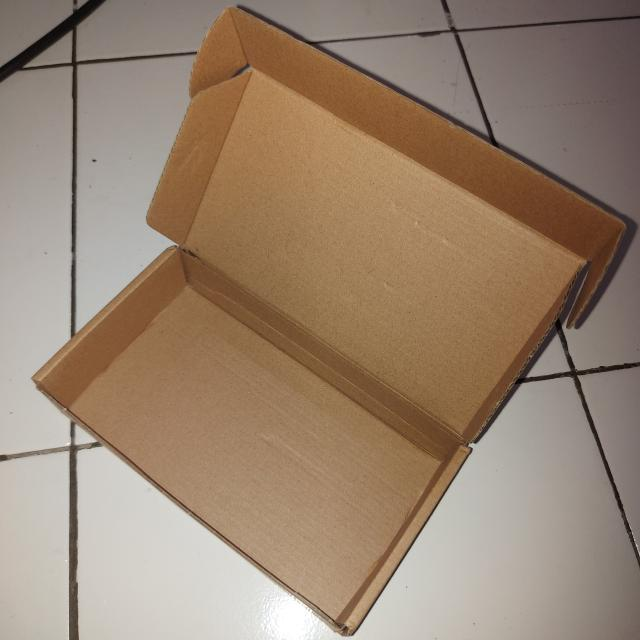Organik: (27, 1, 625, 640)
